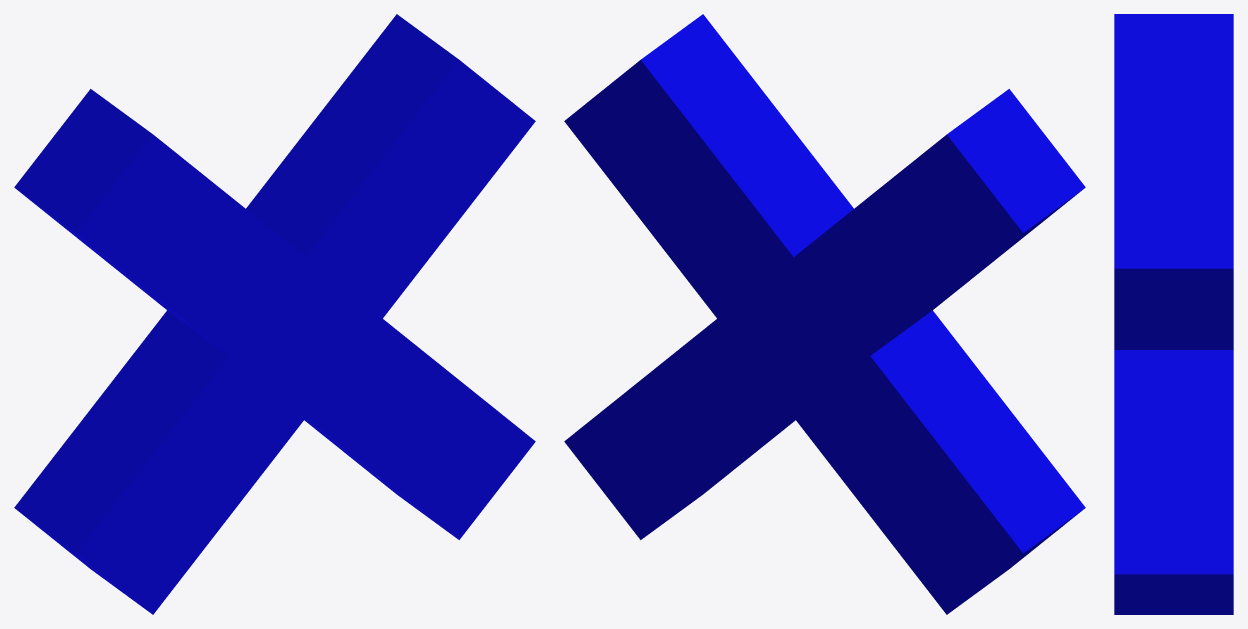
Rendered from Croce20.glb.
3 renders of one model, left to right at view 1: azimuth 30°, elevation 25°; view 2: azimuth 150°, elevation 25°; view 3: azimuth 270°, elevation 25°, orthographic. The views are drawn at different scales.
Parts seen in each view (by area): view 1: Croce, Croce1; view 2: Croce, Croce1; view 3: Croce1, Croce.
Boxes of the visible parts, x1,y1,x2,y2 form: Croce: (14, 14, 535, 614); Croce1: (14, 89, 535, 539); Croce: (564, 14, 1085, 614); Croce1: (564, 89, 1085, 539); Croce1: (1114, 14, 1233, 614); Croce: (1114, 156, 1233, 349).
Bounding box in the file's own units: 0.2546 × 0.2546 × 0.06.
